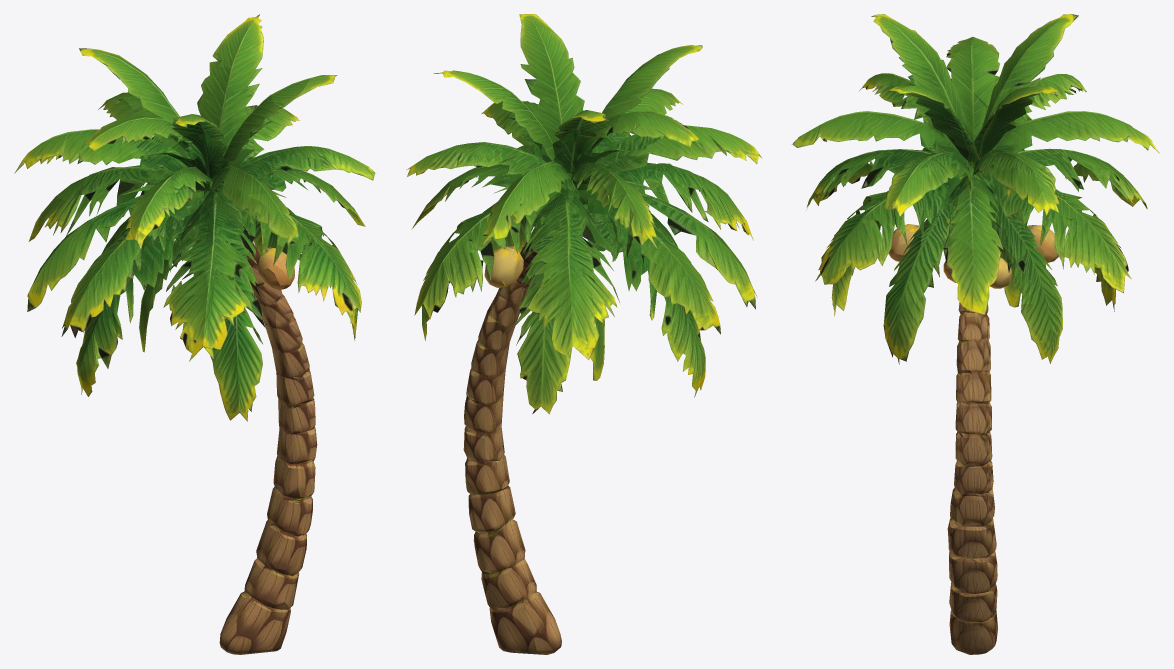
The model's file is Palm.glb.
The picture shows the model from 3 angles, left to right: view 1: azimuth 30°, elevation 25°; view 2: azimuth 150°, elevation 25°; view 3: azimuth 270°, elevation 25°; orthographic projection. The views are drawn at different scales.
Bounding box in the file's own units: 3.94 × 7 × 4.07.
Materials: 1 (1 with a texture image).
